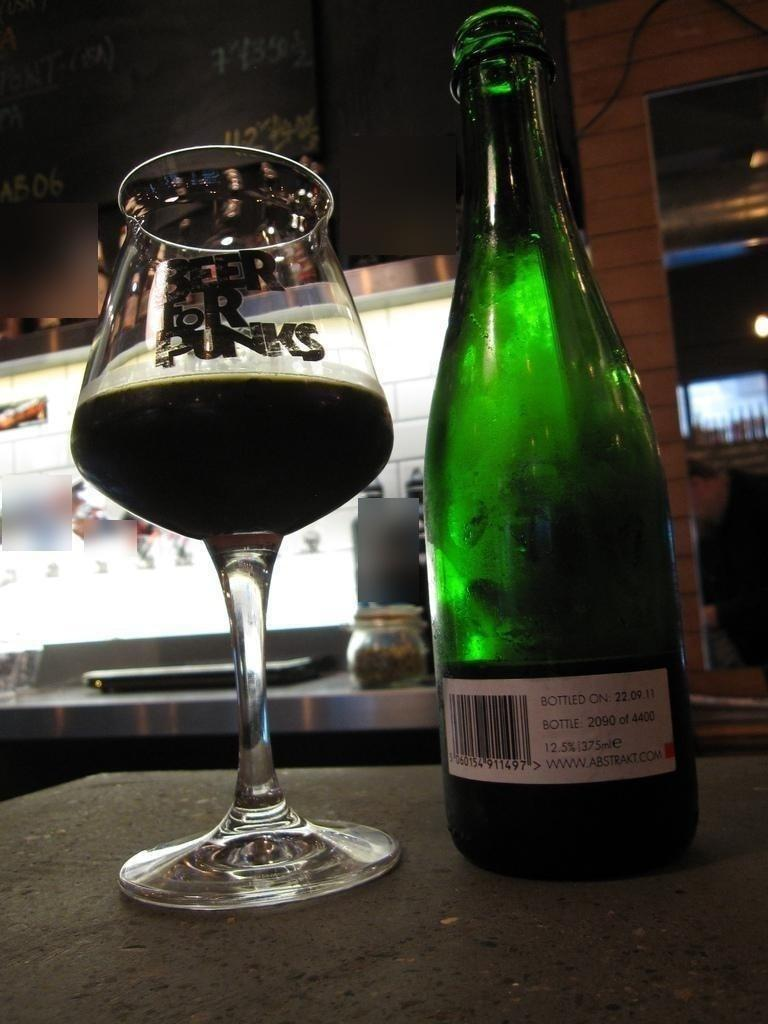bottle-glass: (419, 7, 700, 873)
glass-wine: (69, 142, 400, 907)
